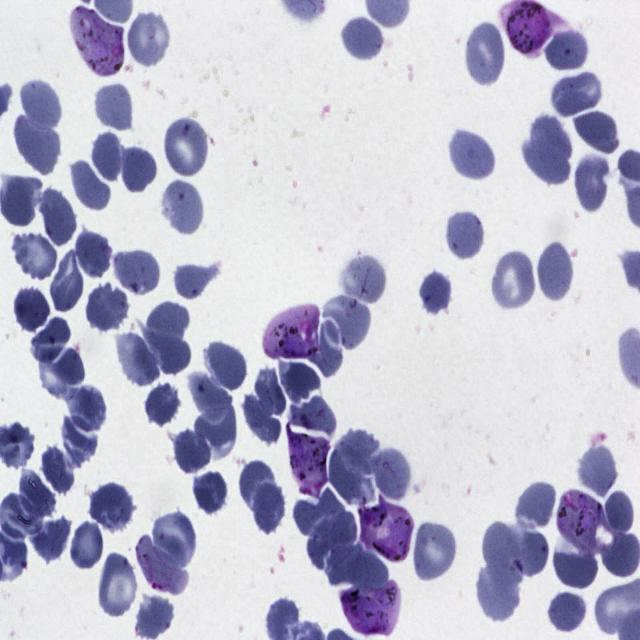difficult: (69, 6, 126, 78)
gametocyte: (498, 0, 564, 57)
red blood cell: (321, 290, 373, 352), (306, 509, 358, 570), (163, 113, 211, 179), (490, 248, 538, 313), (323, 544, 390, 590), (475, 558, 522, 623), (412, 518, 458, 584), (480, 521, 526, 586), (96, 549, 138, 620), (149, 508, 197, 570), (137, 319, 190, 375), (464, 19, 506, 89), (14, 115, 62, 175), (340, 250, 388, 310), (126, 8, 172, 70), (447, 126, 497, 183), (160, 177, 206, 238), (292, 486, 346, 537), (201, 338, 249, 395), (327, 448, 374, 506), (536, 238, 576, 304), (368, 445, 412, 504), (88, 480, 136, 534), (40, 345, 86, 401), (18, 76, 62, 134), (550, 71, 603, 118), (12, 228, 58, 282), (187, 370, 233, 424), (115, 332, 158, 389), (84, 280, 130, 333), (573, 152, 611, 216), (29, 316, 73, 370), (340, 12, 387, 62), (307, 316, 344, 379), (69, 156, 112, 210), (194, 403, 236, 458), (240, 392, 282, 447), (334, 429, 382, 477), (37, 185, 76, 244), (520, 140, 570, 186), (144, 300, 190, 349), (17, 466, 58, 520), (50, 248, 84, 313), (112, 249, 158, 296), (578, 444, 618, 498), (277, 357, 321, 406), (29, 516, 72, 566), (446, 209, 488, 260), (38, 442, 76, 498), (12, 283, 52, 336), (574, 106, 620, 152), (171, 425, 212, 476), (249, 480, 286, 536), (512, 520, 549, 576), (74, 227, 113, 280), (65, 386, 108, 434), (528, 114, 572, 160), (239, 458, 275, 513), (120, 142, 158, 194), (288, 394, 336, 434), (416, 268, 454, 318), (60, 414, 98, 464), (515, 479, 554, 526), (95, 82, 133, 130), (70, 519, 104, 572), (543, 29, 588, 69), (552, 552, 598, 591), (192, 466, 228, 515), (144, 380, 180, 428), (135, 597, 175, 639), (173, 262, 217, 300), (550, 591, 587, 636), (254, 366, 286, 416), (91, 134, 123, 181), (605, 490, 636, 536)
ring: (135, 532, 187, 597)
trophozoite: (356, 496, 414, 563), (339, 578, 403, 638), (262, 303, 324, 361), (286, 422, 330, 500), (556, 490, 608, 553)
